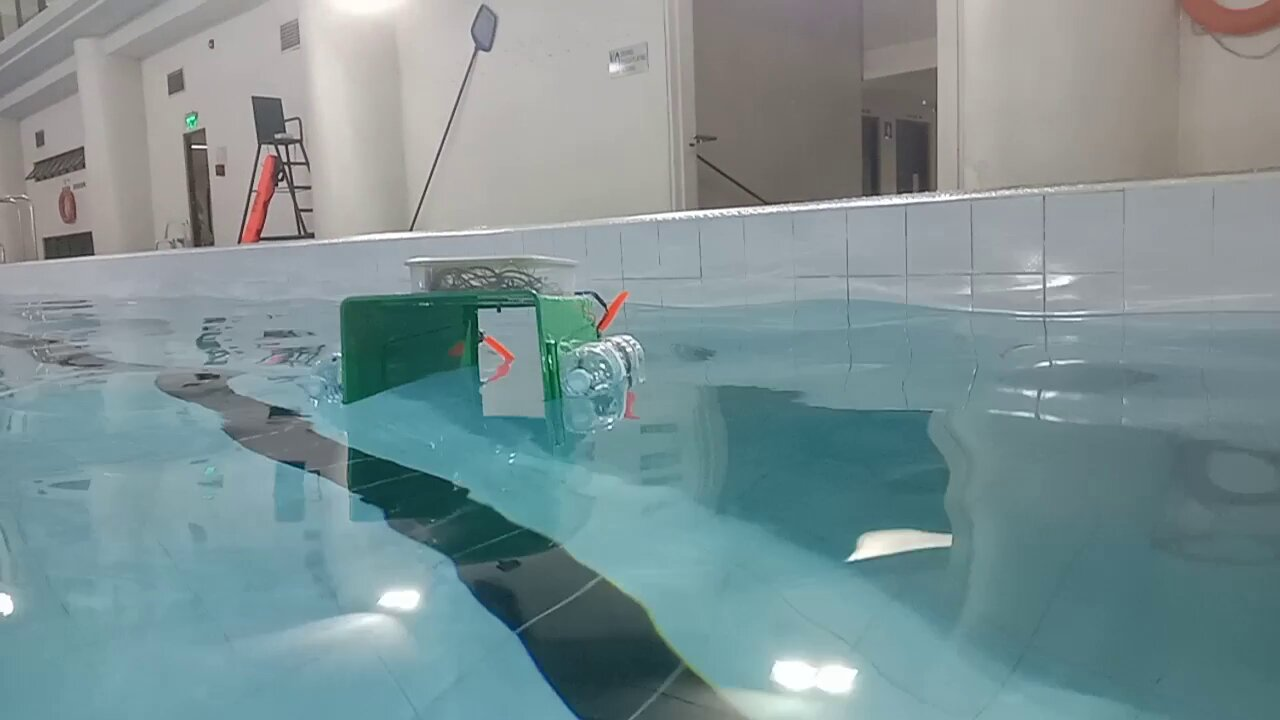drone: (303, 253, 648, 411)
